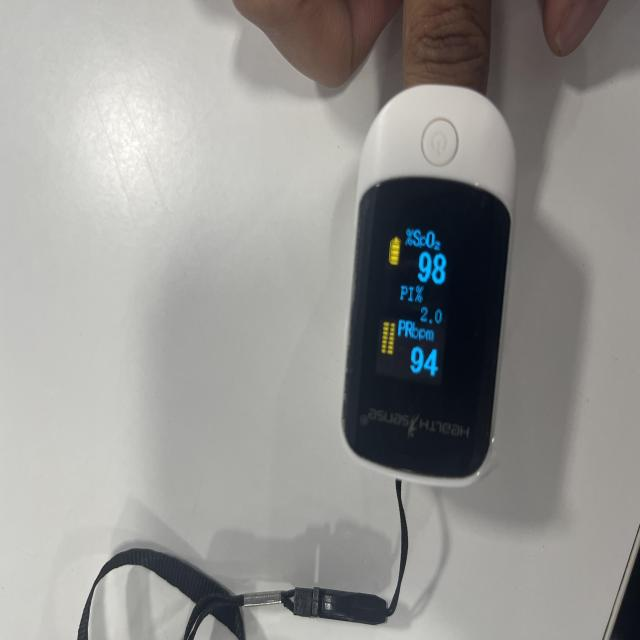spo2: (340, 84, 517, 488)
